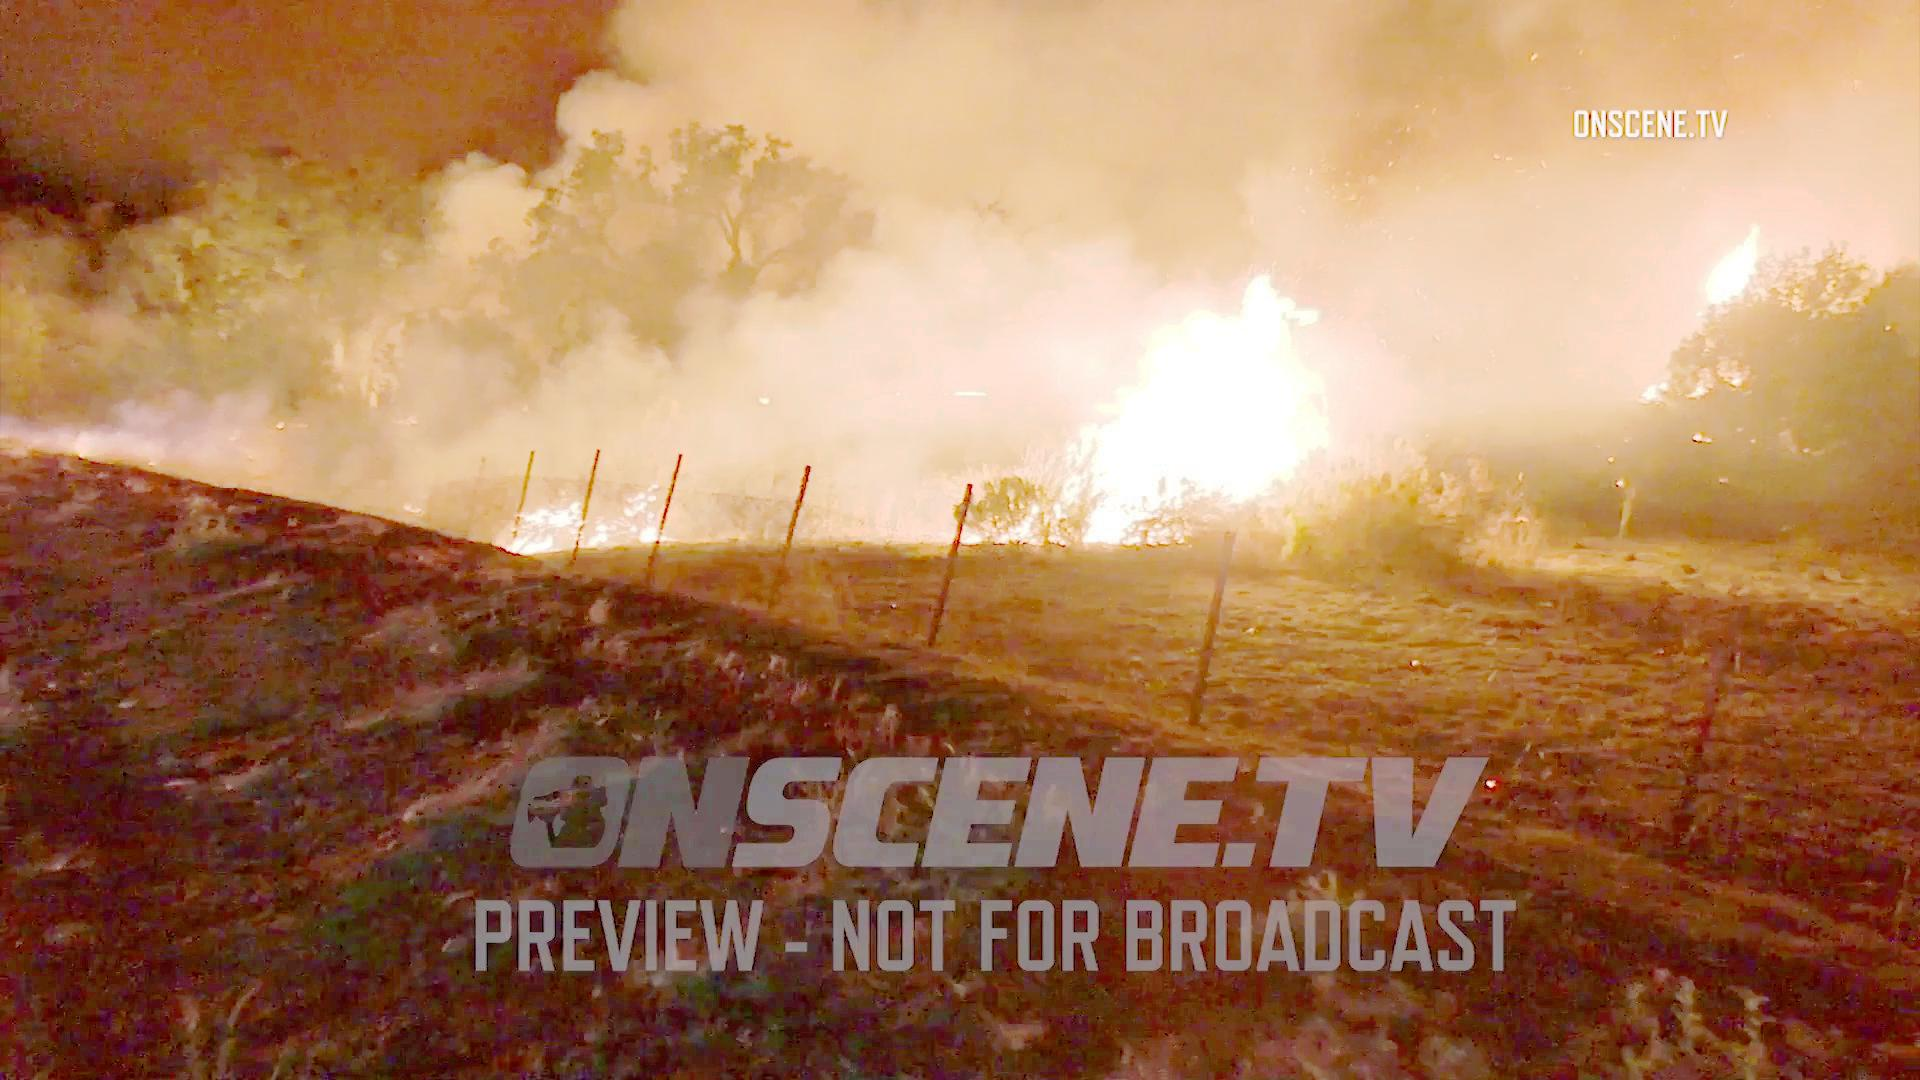fire: (1047, 265, 1366, 542)
smoke: (766, 22, 1513, 251)
